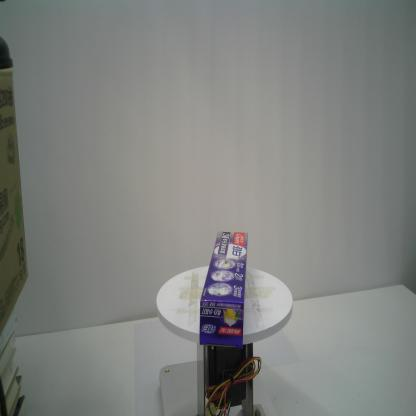Personal Hygiene: (199, 230, 249, 346)
